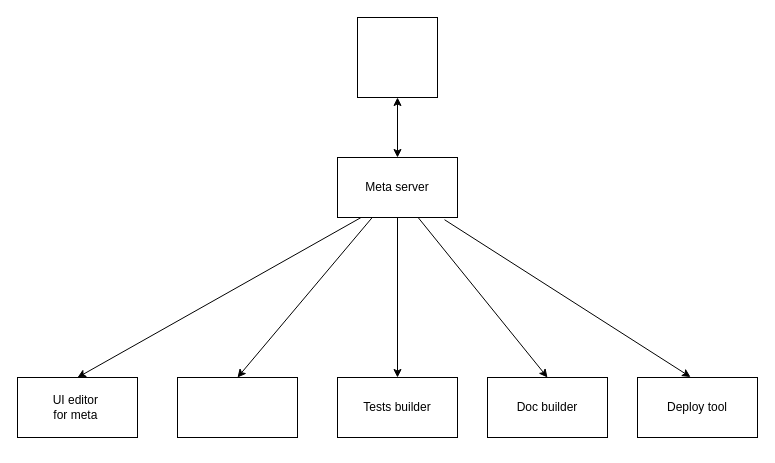
Image size: 775x463. Some labels were removed from this diagram. The shapes that lost their labels are listed below. From the top down, each one's centre as x and y in pixels, then its label:
At (x=397, y=57): "Meta Object".
At (x=237, y=407): "Code builder".
